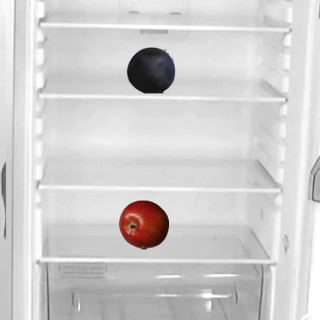Apple Braeburn: (118, 199, 168, 249)
Grape Blue: (125, 44, 175, 94)
